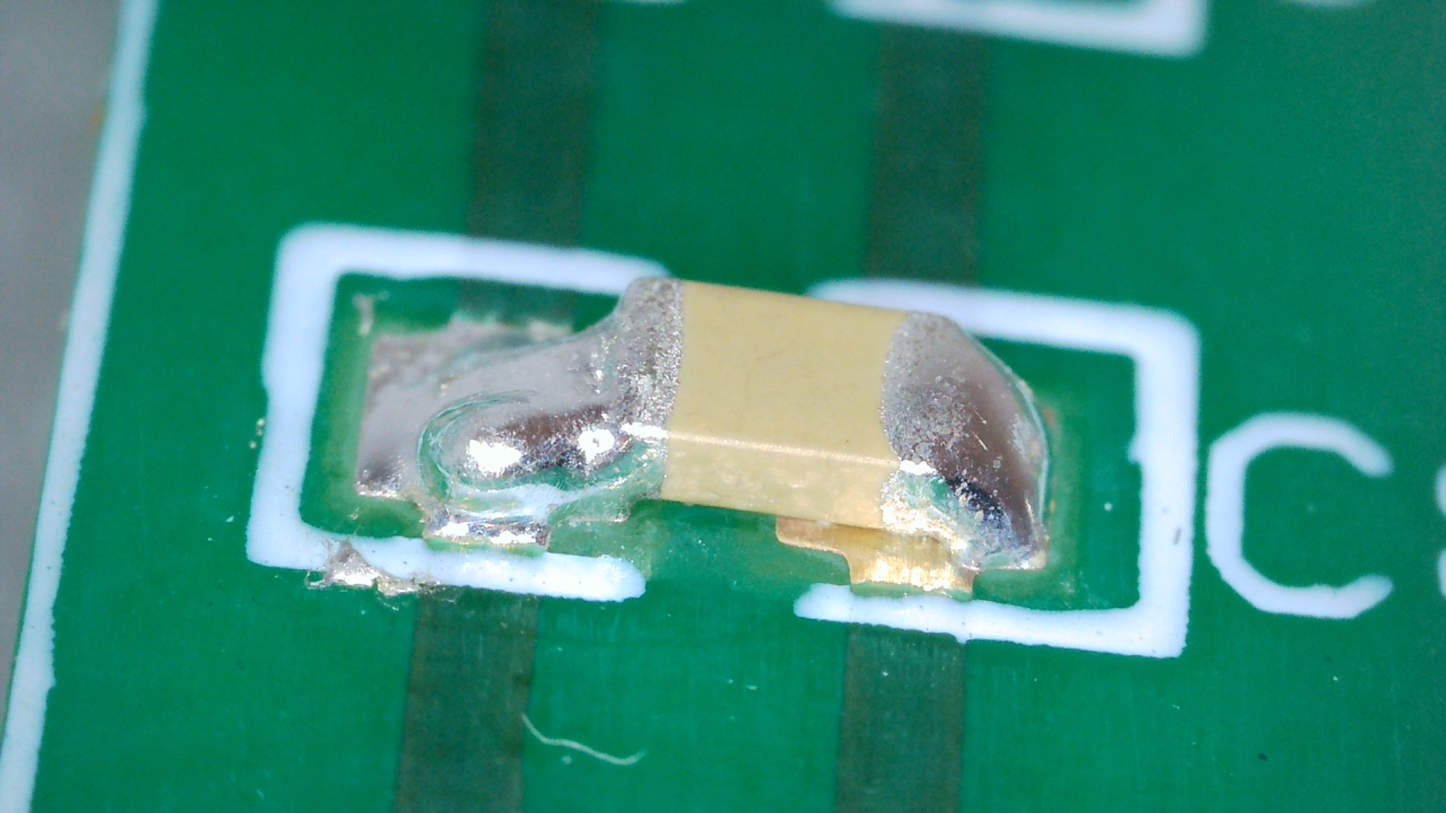NG: (889, 311, 1049, 572), (419, 384, 629, 519)
OK: (357, 279, 678, 545)
